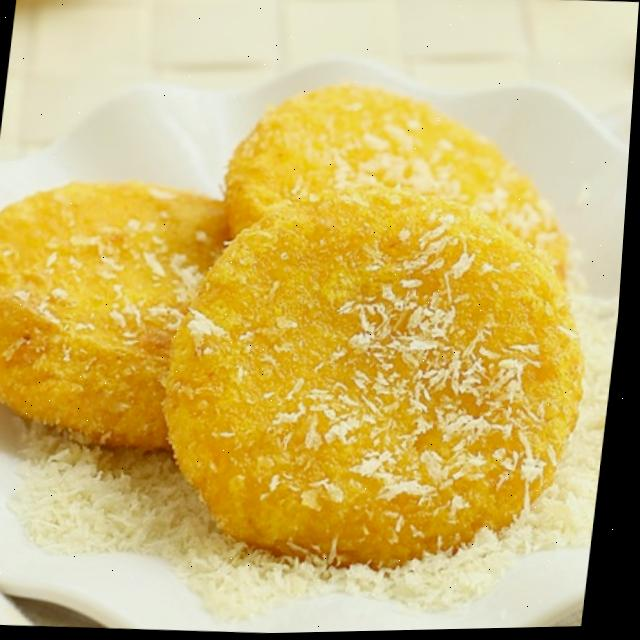炸货点心: (0, 63, 621, 589)
蛋糕甜品: (0, 63, 621, 589)
